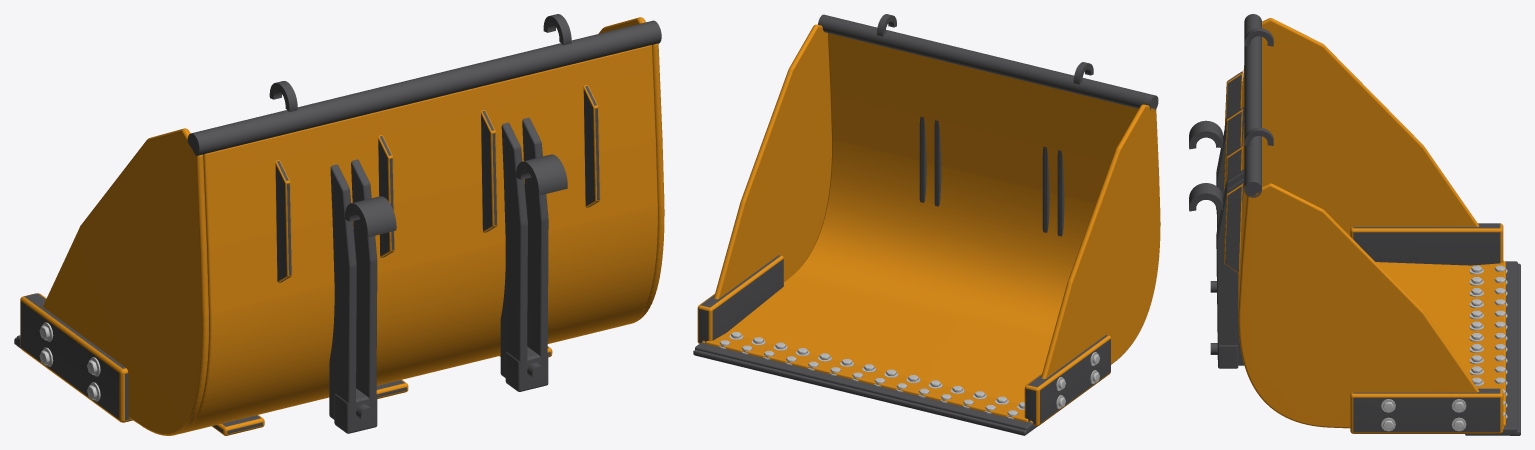
Rendered from bucket.glb.
The picture shows the model from 3 angles, left to right: view 1: azimuth 30°, elevation 25°; view 2: azimuth 150°, elevation 25°; view 3: azimuth 270°, elevation 25°; orthographic projection. The views are drawn at different scales.
Visible parts, largest first — view 1: bucket, bucket_hooks; view 2: bucket, bucket_cutting_edge, bucket_hooks; view 3: bucket, bucket_hooks, bucket_cutting_edge, bucket_lift_eye_l, bucket_lift_eye_r.
Boxes of the visible parts, left/top/right/bottom form: bucket: left=20, top=17, right=664, bottom=435; bucket_hooks: left=329, top=117, right=567, bottom=433; bucket: left=697, top=14, right=1160, bottom=425; bucket_cutting_edge: left=693, top=342, right=1037, bottom=435; bucket_hooks: left=919, top=116, right=1064, bottom=236; bucket: left=1223, top=14, right=1505, bottom=433; bucket_hooks: left=1189, top=107, right=1244, bottom=368; bucket_cutting_edge: left=1465, top=261, right=1520, bottom=435; bucket_lift_eye_l: left=1244, top=28, right=1273, bottom=46; bucket_lift_eye_r: left=1244, top=127, right=1273, bottom=145.
Size of the model in its own units: 1.42 by 1.03 by 1.13.
